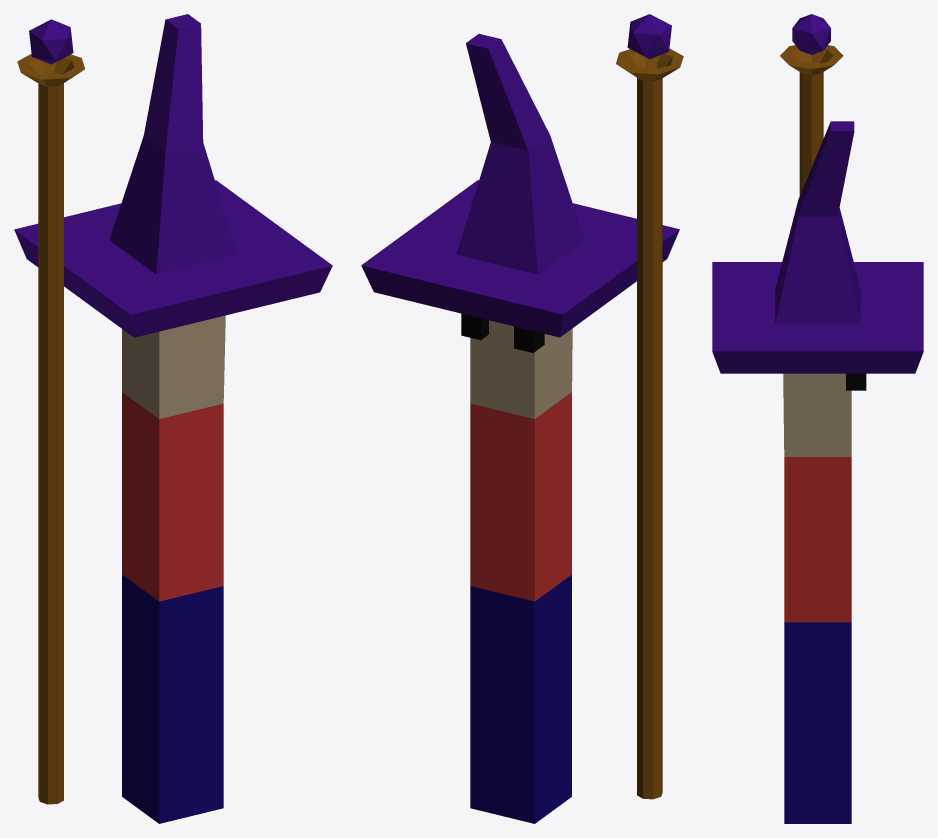
The model's file is Medieval.fbx_Wizard.fbx.
The picture shows the model from 3 angles, left to right: view 1: azimuth 30°, elevation 25°; view 2: azimuth 150°, elevation 25°; view 3: azimuth 270°, elevation 25°; orthographic projection. The views are drawn at different scales.
Parts seen in each view (by area): view 1: Wizard.001, Sceptre.001; view 2: Wizard.001, Sceptre.001; view 3: Wizard.001, Sceptre.001.
Boxes of the visible parts, x1,y1,x2,y2 form: Wizard.001: (14, 14, 332, 823); Sceptre.001: (17, 19, 84, 804); Wizard.001: (361, 33, 679, 823); Sceptre.001: (616, 14, 683, 799); Wizard.001: (712, 121, 923, 823); Sceptre.001: (780, 14, 843, 195).
Bounding box in the file's own units: 75.02 × 58.94 × 228.
